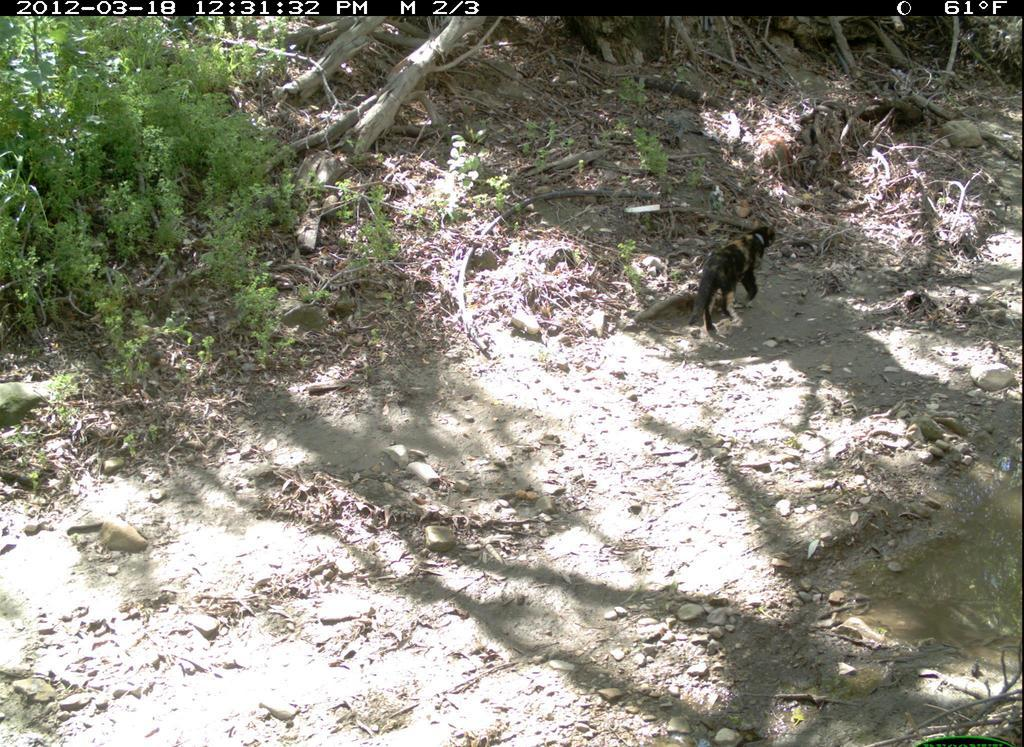cat: (676, 217, 779, 342)
